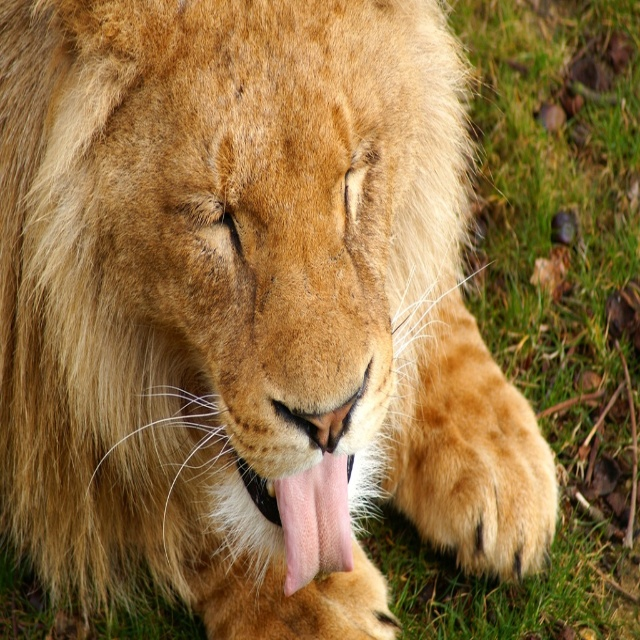Lion: (0, 1, 561, 639)
